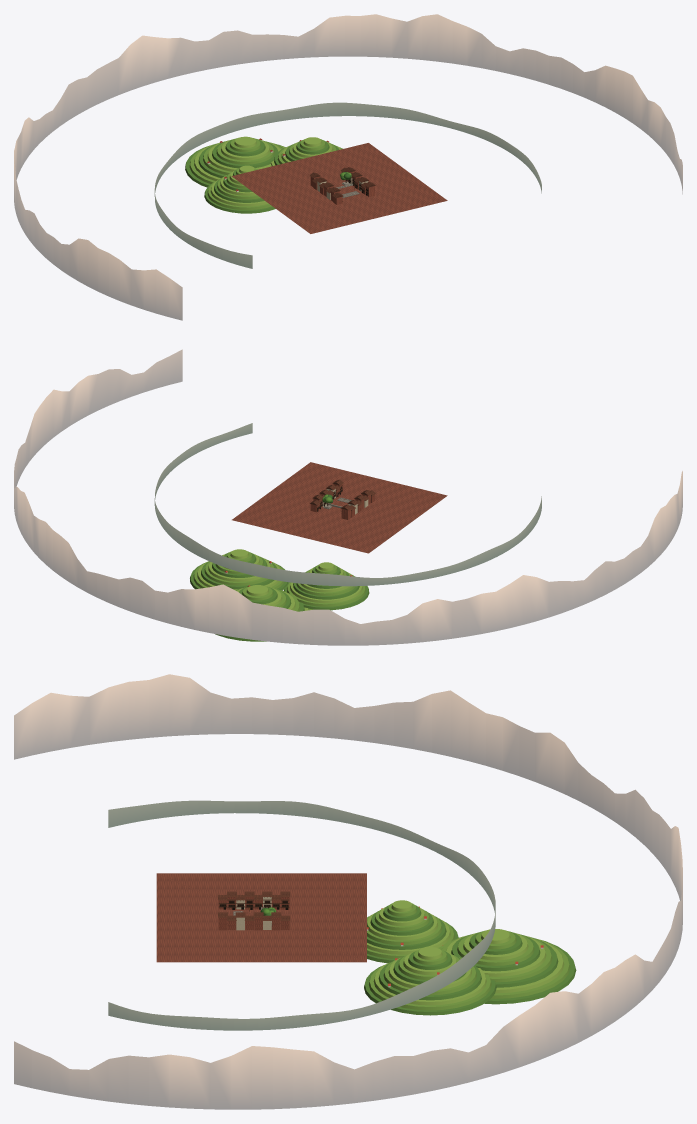
Rendered from terrace-overlook.glb.
3 views of the same model, one above another, from view 1: azimuth 30°, elevation 25°; view 2: azimuth 150°, elevation 25°; view 3: azimuth 270°, elevation 25° (orthographic). The views are drawn at different scales.
Visible parts, largest first — view 1: _MeshInstance3D_1254, _MeshInstance3D_1247, _MeshInstance3D_1253; view 2: _MeshInstance3D_1254, _MeshInstance3D_1247, _MeshInstance3D_1253; view 3: _MeshInstance3D_1254, _MeshInstance3D_1247, _MeshInstance3D_1253, _MeshInstance3D_1619, _MeshInstance3D_1620, _MeshInstance3D_1641, _MeshInstance3D_1621, _MeshInstance3D_1642, _MeshInstance3D_1622.
Boxes of the visible parts, x1,y1,x2,y2 form: _MeshInstance3D_1254: (14,14,682,320); _MeshInstance3D_1247: (231,143,447,233); _MeshInstance3D_1253: (154,102,541,268); _MeshInstance3D_1254: (14,349,682,645); _MeshInstance3D_1247: (232,462,447,553); _MeshInstance3D_1253: (154,423,541,586); _MeshInstance3D_1254: (14,674,682,1109); _MeshInstance3D_1247: (156,873,366,962); _MeshInstance3D_1253: (108,800,495,1030); _MeshInstance3D_1619: (364,966,496,1015); _MeshInstance3D_1620: (369,964,491,1010); _MeshInstance3D_1641: (484,940,576,1004); _MeshInstance3D_1621: (373,962,486,1005); _MeshInstance3D_1642: (491,939,570,998); _MeshInstance3D_1622: (378,961,481,1000).
Size of the model in its own units: 380 by 56.7 by 286.
29 materials, 9 textured.
